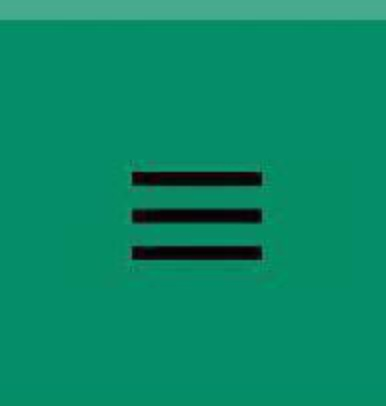ImgButton: (1, 1, 385, 405)
